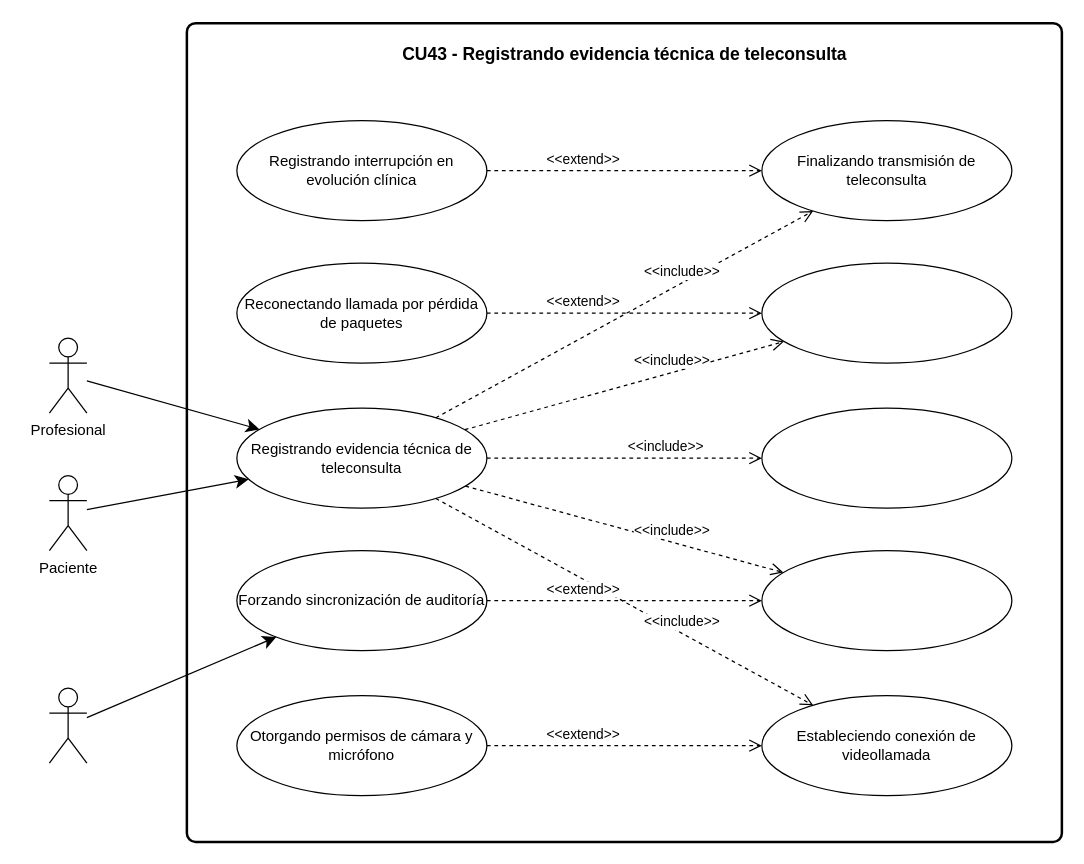
This 1084x864 diagram has some shape labels left out. Here are the shapes that lost their labels. From the top down, the centre of each, then its label:
At [886,312]: "Recolectando metadatos de red".
At [886,457]: "Vinculando evidencia a Ficha Clínica Electrónica".
At [886,600]: "Generando registro de auditoría inmutable".
At [67,725]: "Administrador".
